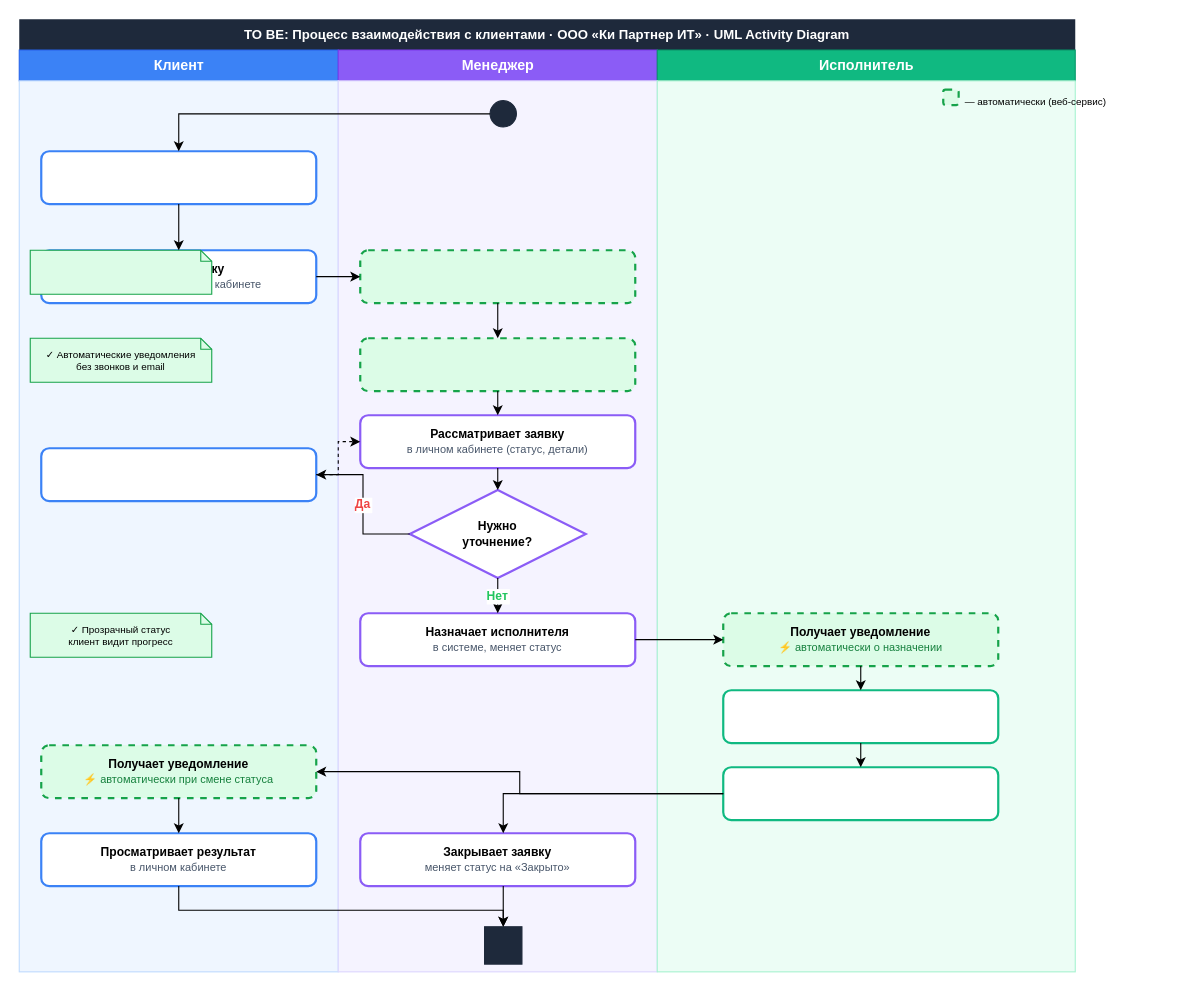
The diagram is 1202 pixels wide and 991 high, and some of its shapes have lost their labels. Here are the shapes that lost their labels. From the top down, the centre of each, then its label:
At (178,177): "Авторизуется в системе логин / пароль на сайте".
At (120,271): "✓ Единая точка входа нет потери заявок".
At (497,276): "Заявка сохранена в БД ⚡ автоматически".
At (497,364): "Получает уведомление ⚡ автоматически о новой заявке".
At (178,474): "Отвечает на уточнения комментарий в карточке заявки".
At (860,716): "Выполняет работу отслеживает задачу в системе".
At (860,793): "Меняет статус на «Выполнено» в личном кабинете".
